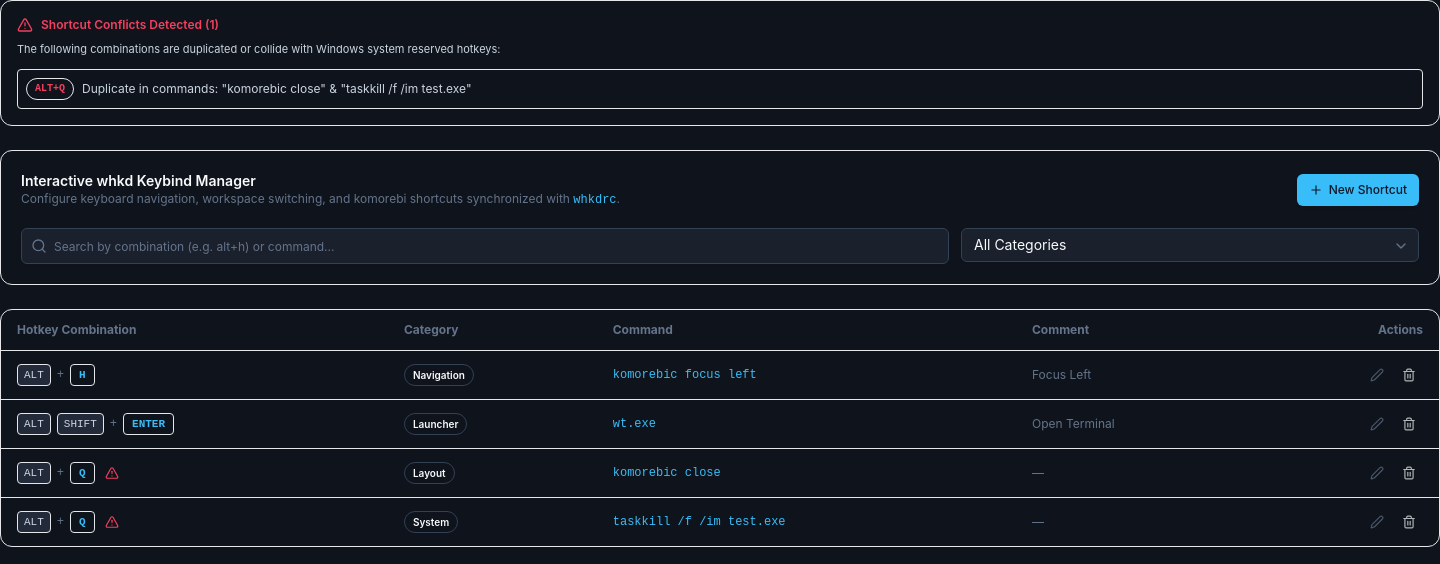
Scenario: ShortcutRecorder › filters hotkeys by category
Select "Launcher / Shell" in the dropdown: (1190,245) 961,228 -> 1419,262
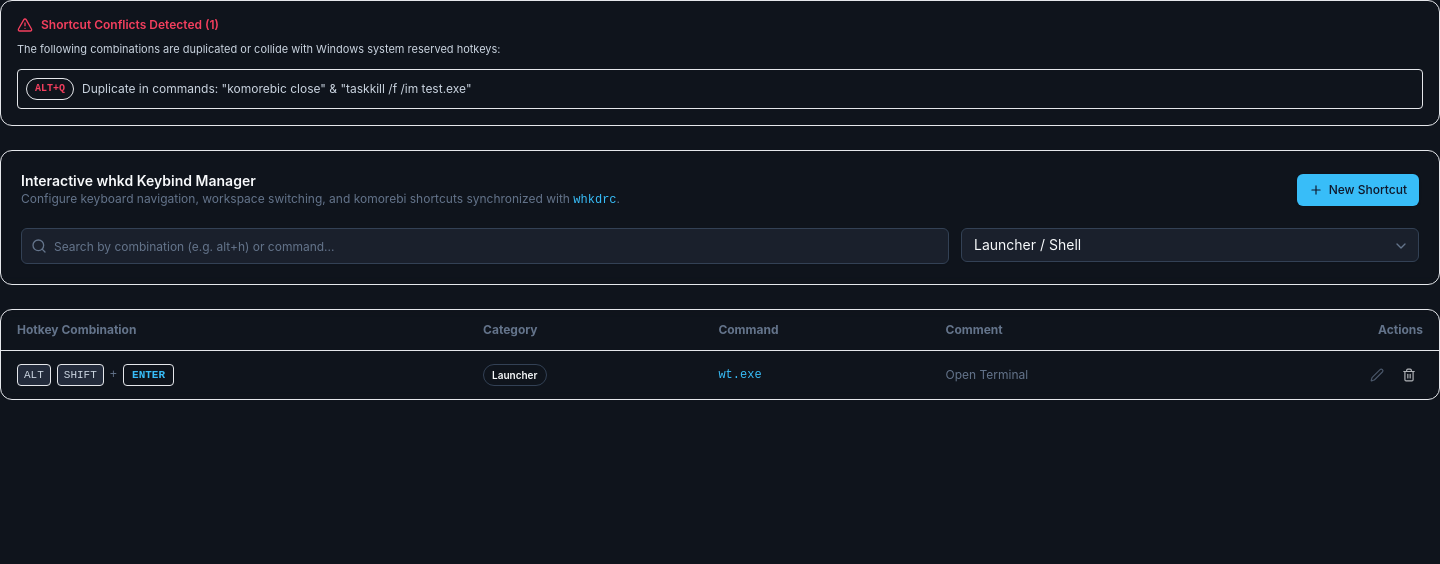
Check: the text "Open Terminal" is shown, box 930,350 -> 1212,399
Check: the text "focus left" is gone
